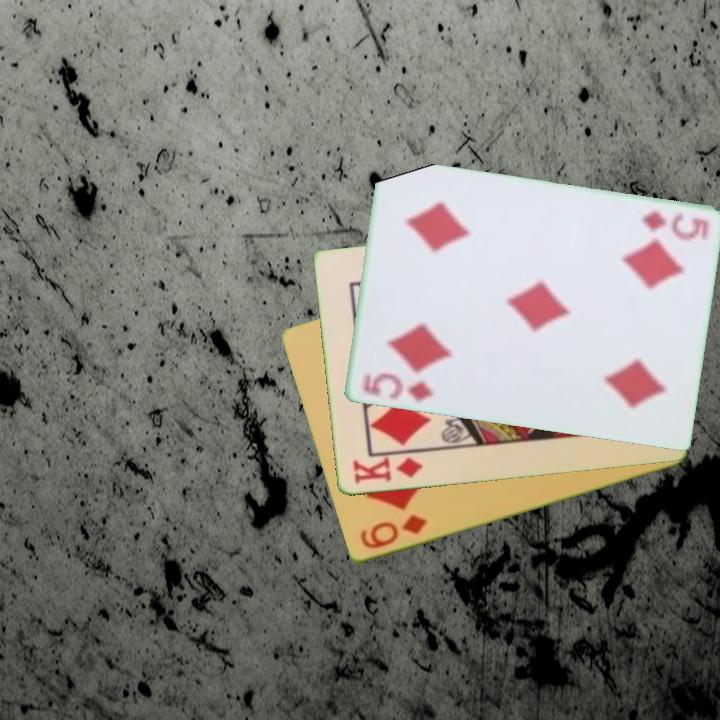5d: (359, 370, 435, 406), (638, 208, 711, 243)
6d: (356, 512, 430, 553)
Kd: (348, 454, 425, 487)
